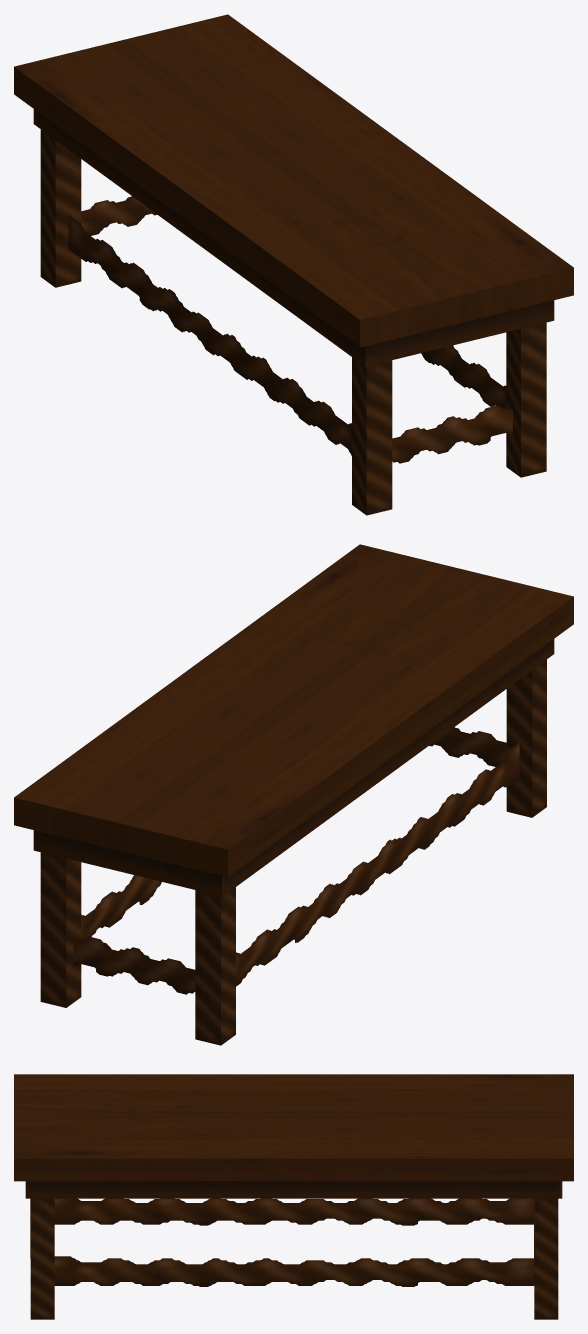
File: skTableWoodRectangle1mesh.obj
3 views of the same model, one above another, from view 1: azimuth 30°, elevation 25°; view 2: azimuth 150°, elevation 25°; view 3: azimuth 270°, elevation 25° (orthographic). The views are drawn at different scales.
Bounding box in the file's own units: 50 × 46.27 × 140.
1 material, 1 textured.
